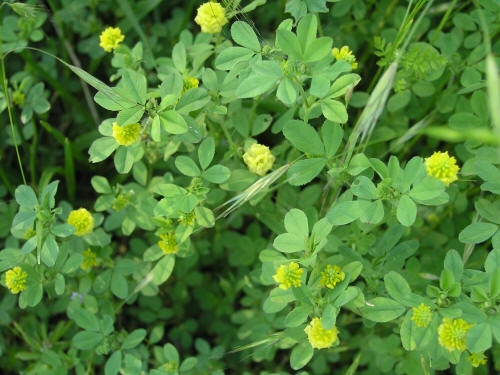clover: (7, 3, 498, 371)
